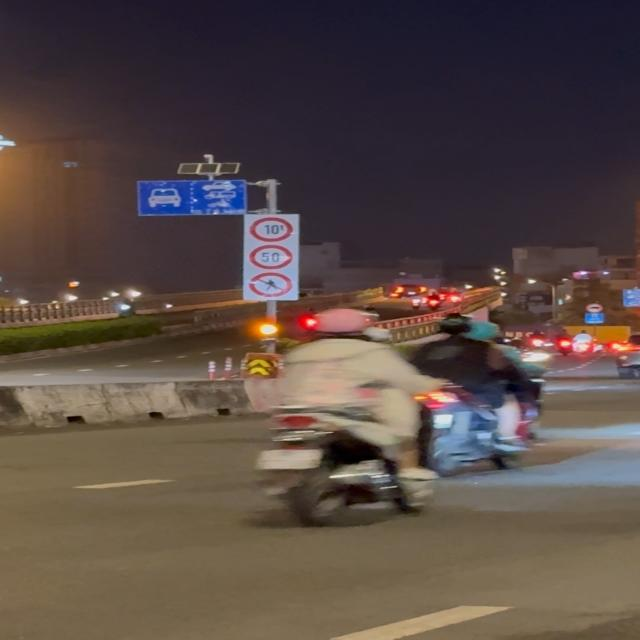Bien bao cam nguoi di bo: (248, 271, 294, 297)
Bien bao toc do toi da cho phep: (247, 244, 296, 272)
